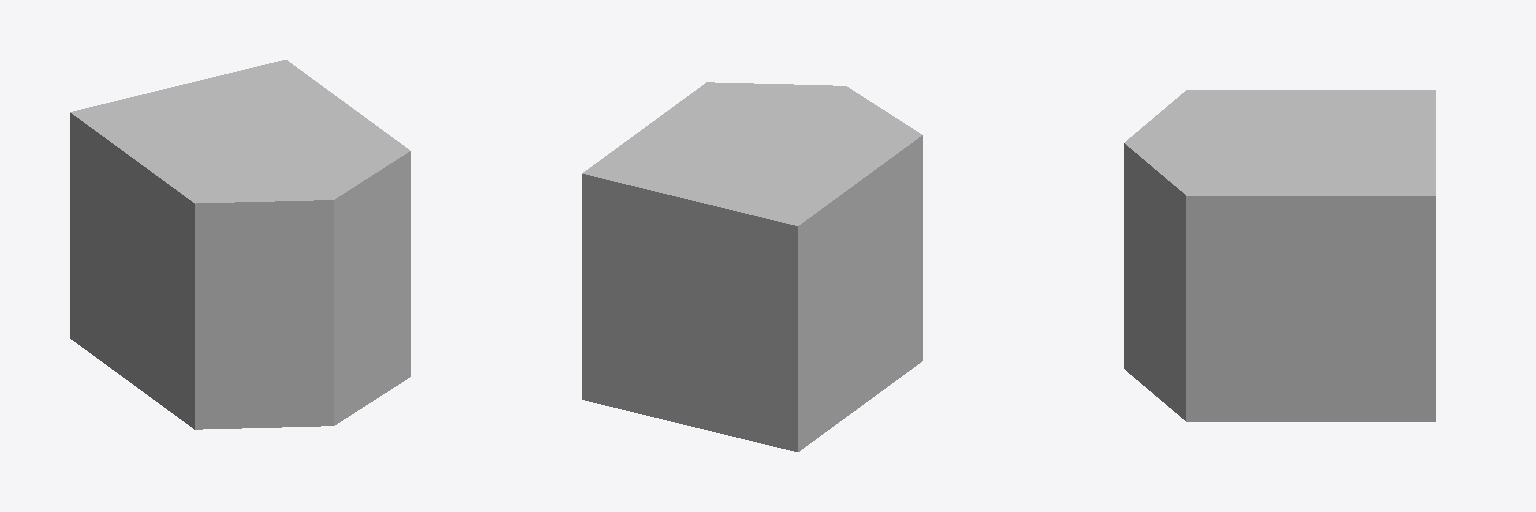
File: house.obj
3 renders of one model, left to right at view 1: azimuth 30°, elevation 25°; view 2: azimuth 150°, elevation 25°; view 3: azimuth 270°, elevation 25°, orthographic.
Size of the model in its own units: 2 by 2 by 2.5.